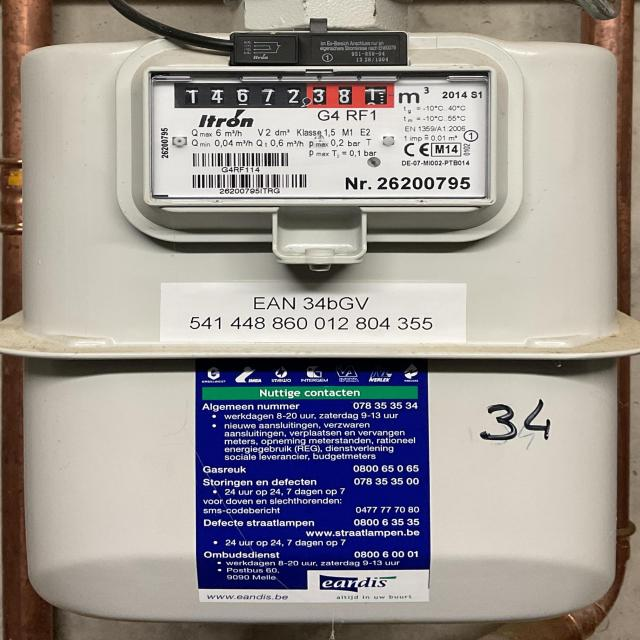gaz_meter: (144, 64, 493, 203)
indication: (170, 79, 396, 110)
